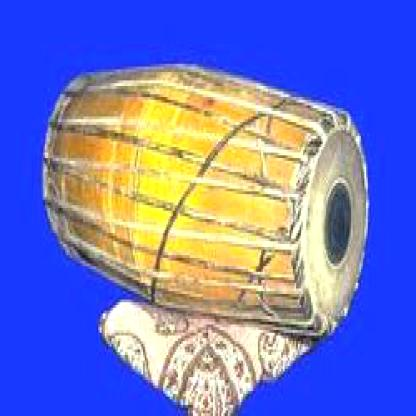Mridangam: (39, 57, 370, 324)
